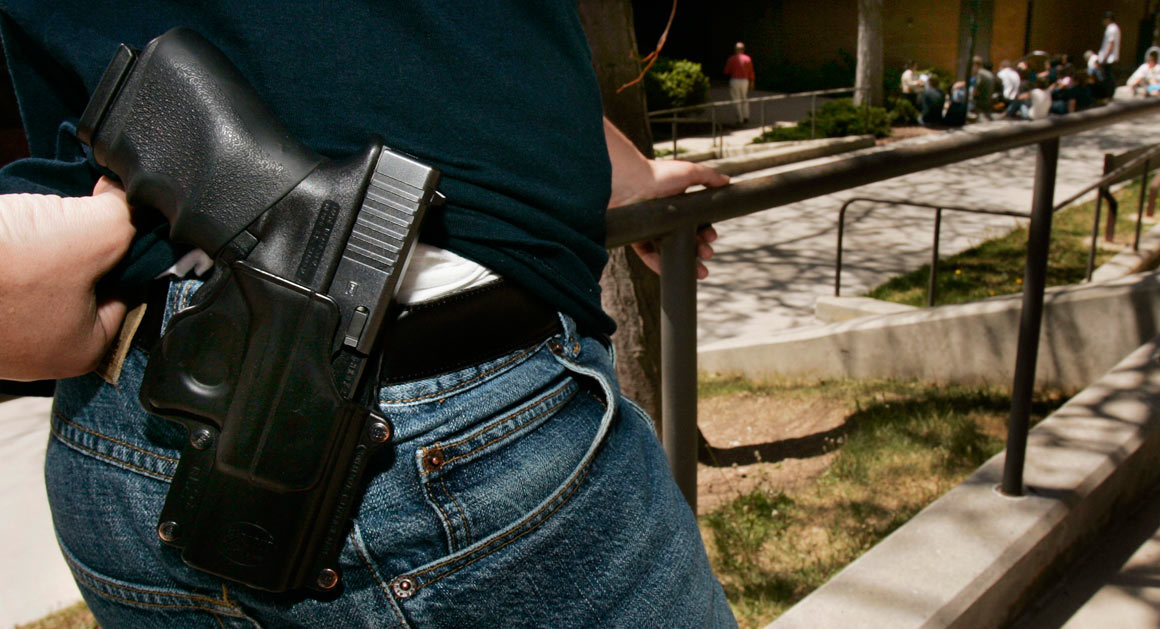Gun: (157, 39, 422, 446)
